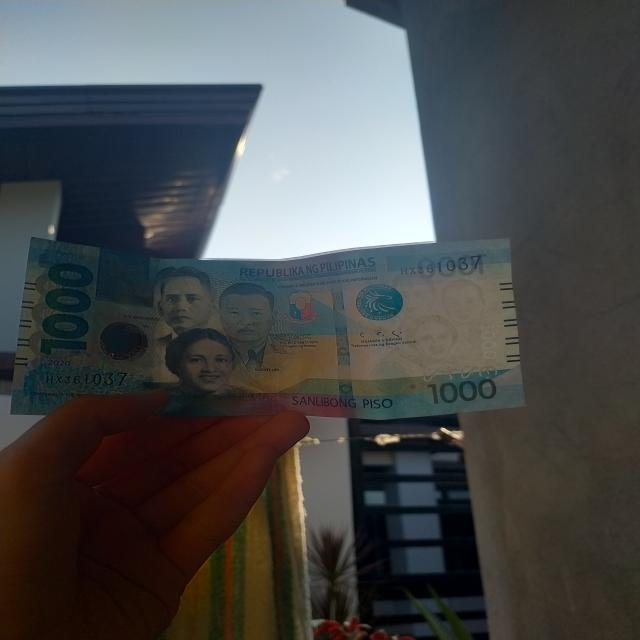concealed_value: (98, 248, 151, 306)
optically_variable_device: (94, 314, 152, 368)
security_thread: (329, 251, 356, 418)
see_through_mark: (418, 363, 503, 381)
value: (40, 258, 89, 353)
value_watermark: (478, 317, 498, 361)
watermark: (388, 270, 485, 358)
